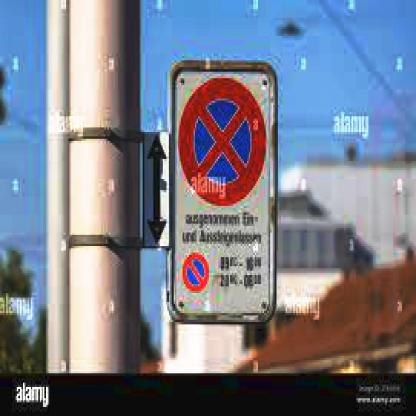No stopping: (180, 74, 270, 206)
